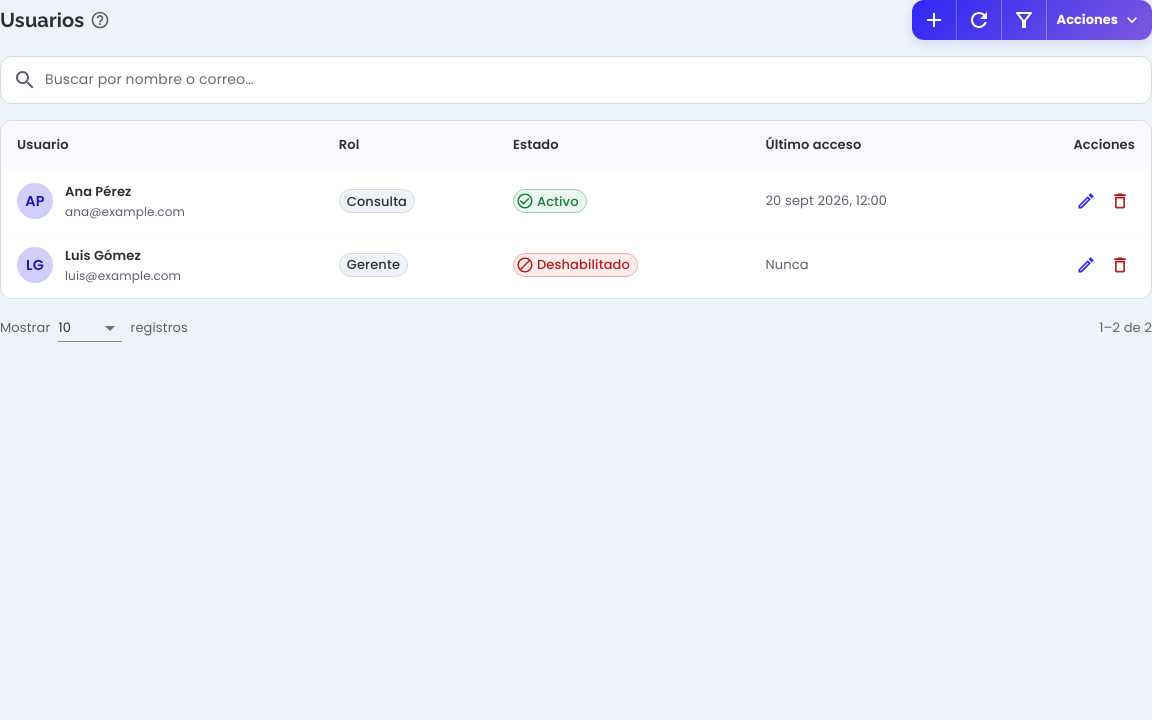
Scenario: <UsersPage /> › valida el formulario y muestra los errores del backend dentro del diálogo
Check: the row "Ana Pérez" is shown, box [1, 170, 1151, 233]
Click the button named "Nuevo usuario". click: [934, 20]
box: [912, 0, 956, 40]
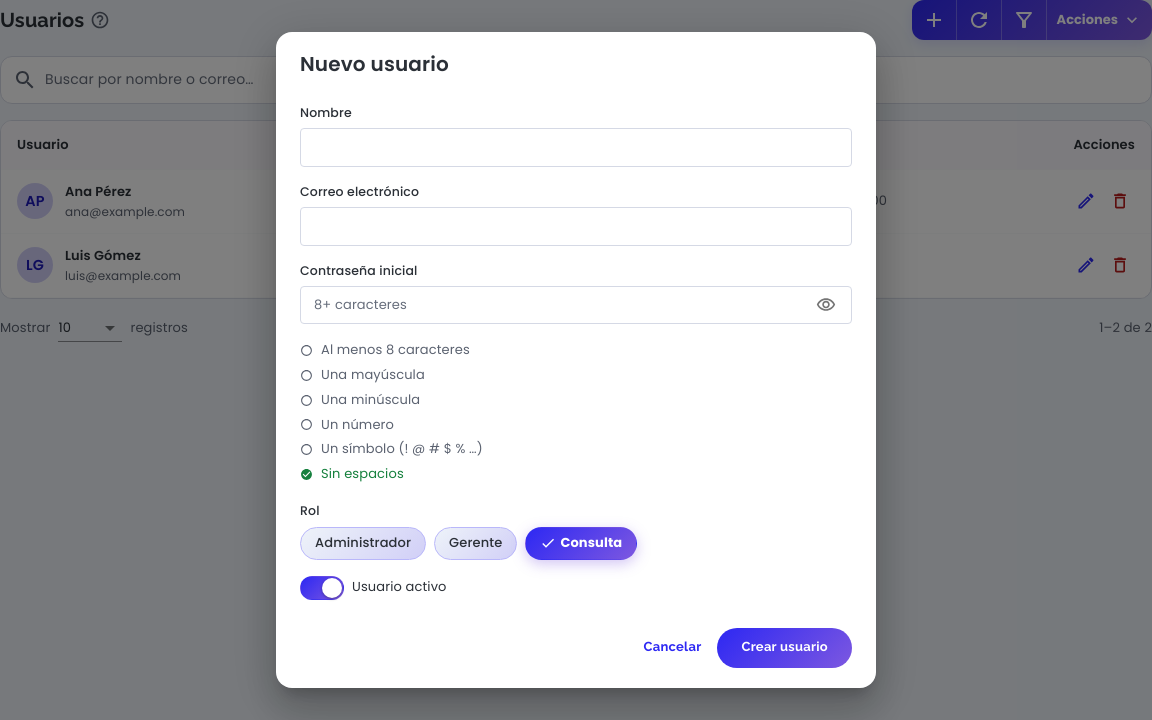
Click the button "Crear usuario". click: [785, 648]
box: [718, 628, 852, 668]
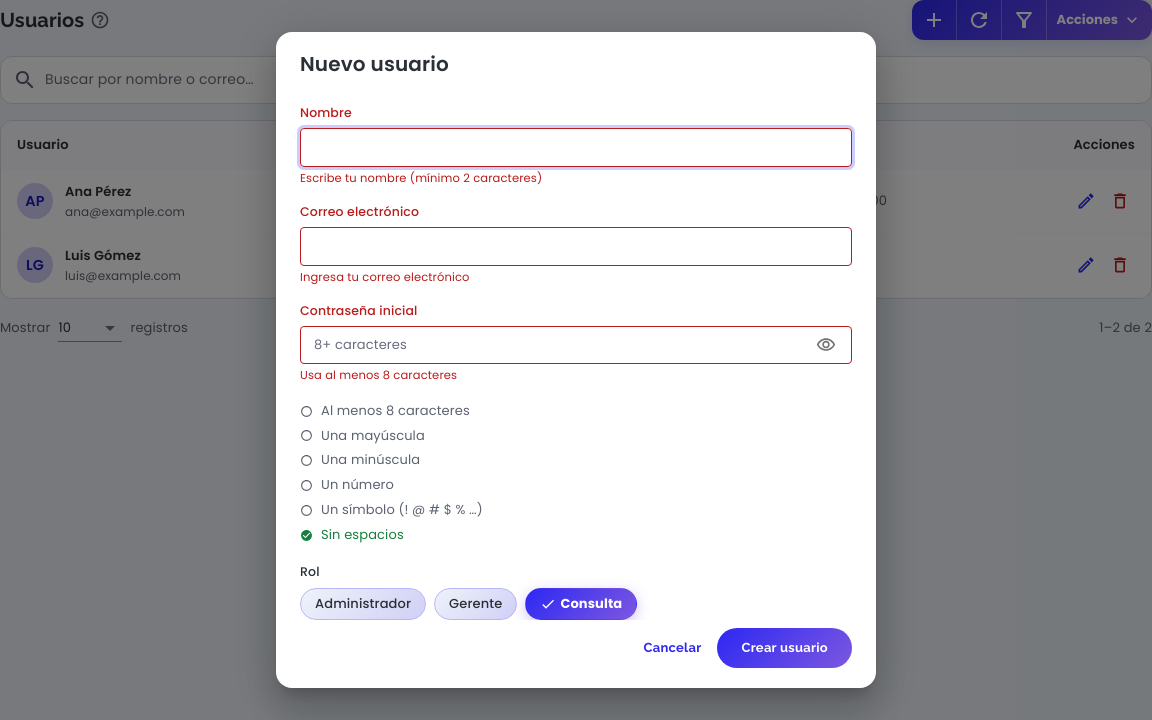
Check: the text "Ingresa tu correo electrónico" is shown, box [300, 269, 470, 285]
Type "Ana Copia" into the field labelled "Nombre". click: [576, 147]
box: [300, 128, 852, 167]
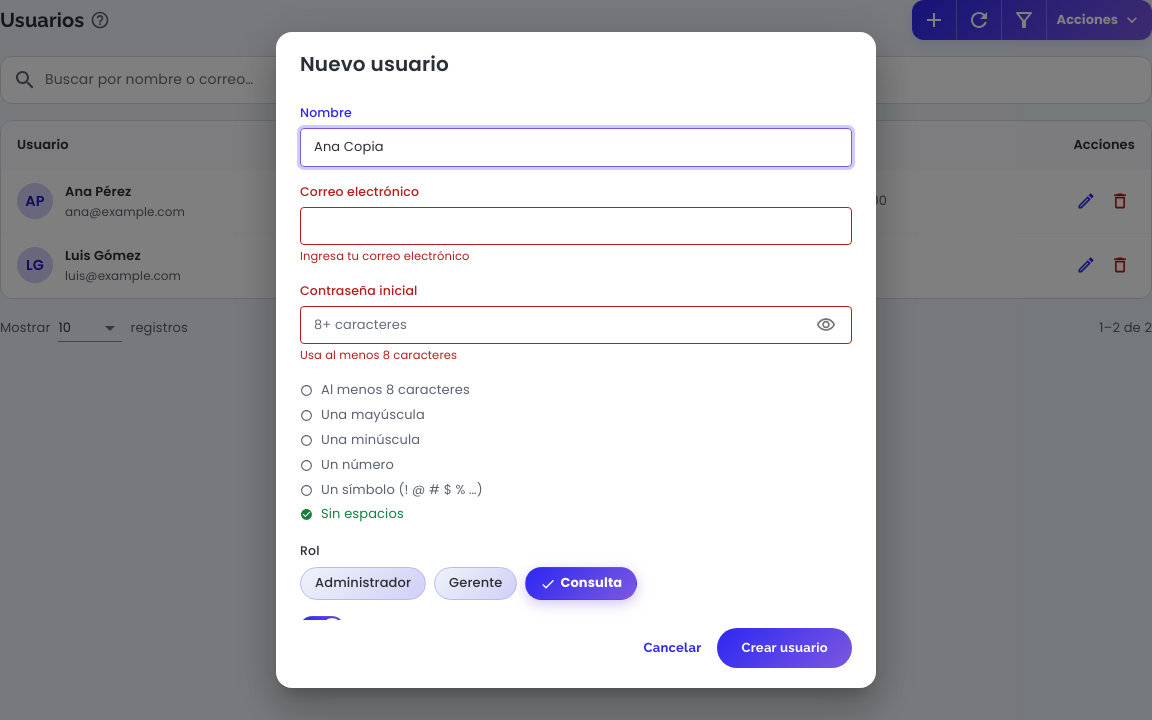
Type "ana@example.com" into the field labelled "Correo electrónico". click: [576, 226]
box: [300, 207, 852, 245]
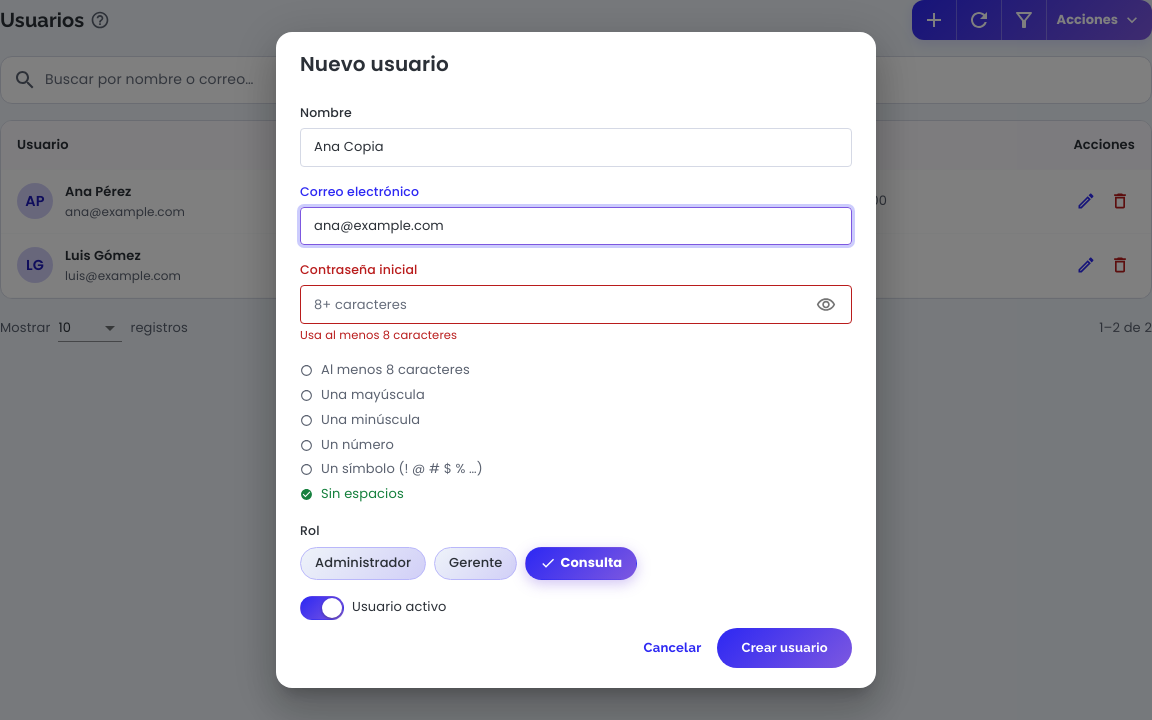
Type "Segura#12345" into the password field labelled "Contraseña inicial". click: [552, 305]
box: [300, 285, 803, 324]
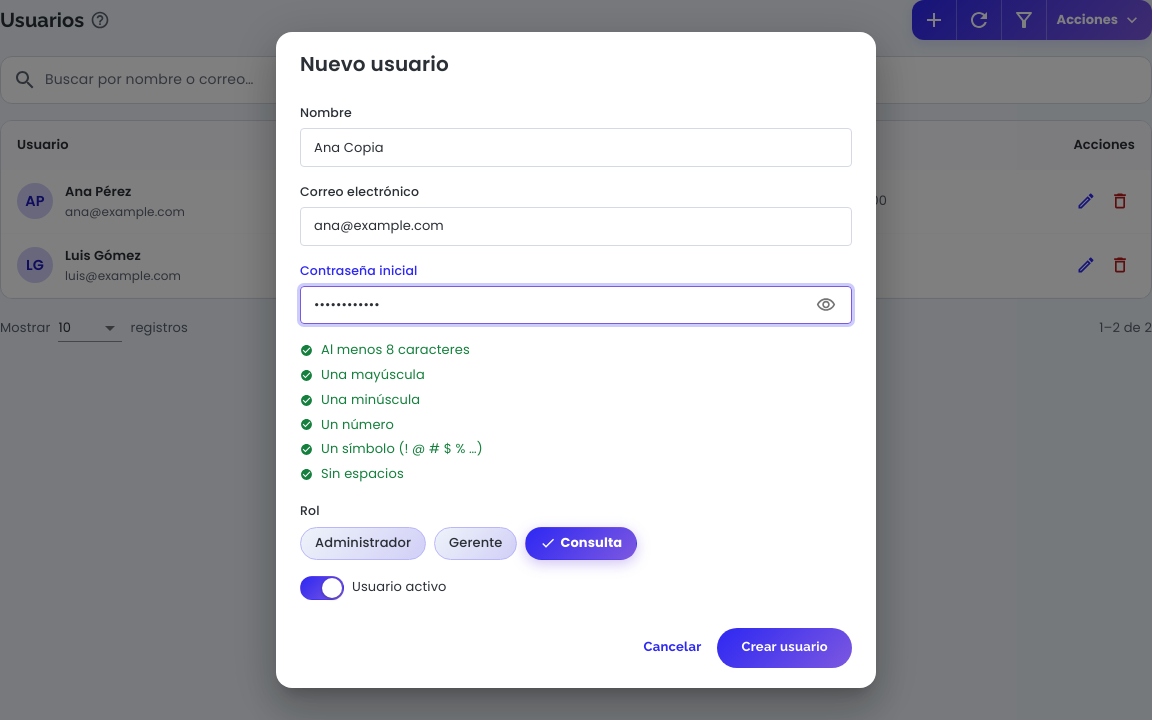
Click the button "Crear usuario". click: [785, 648]
box: [718, 628, 852, 668]
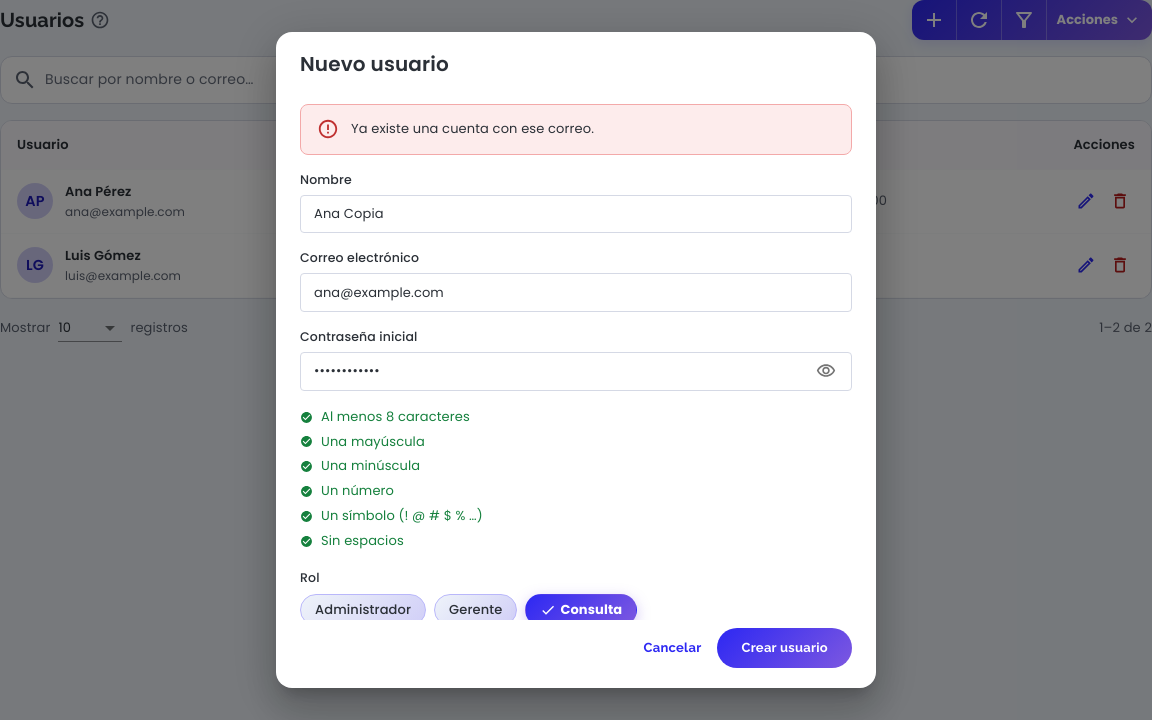
Check: the dialog is shown, box [276, 32, 876, 688]
Check: the text "Ya existe una cuenta con ese correo." is shown, box [351, 119, 594, 138]
